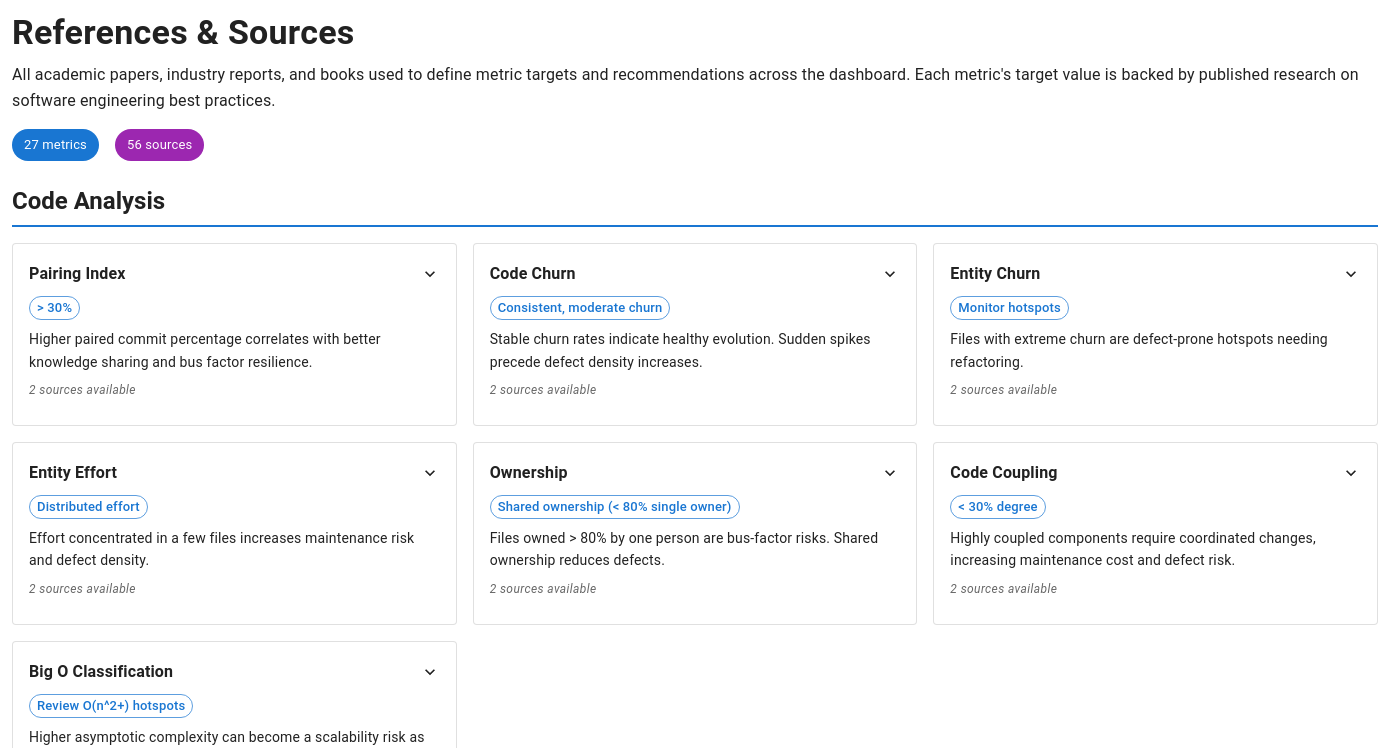
it: ReferencesPage › collapses sources when collapse button is clicked
Expand first
Click the button with aria-label "expand sources" at (77, 274), box [29,260,440,288]
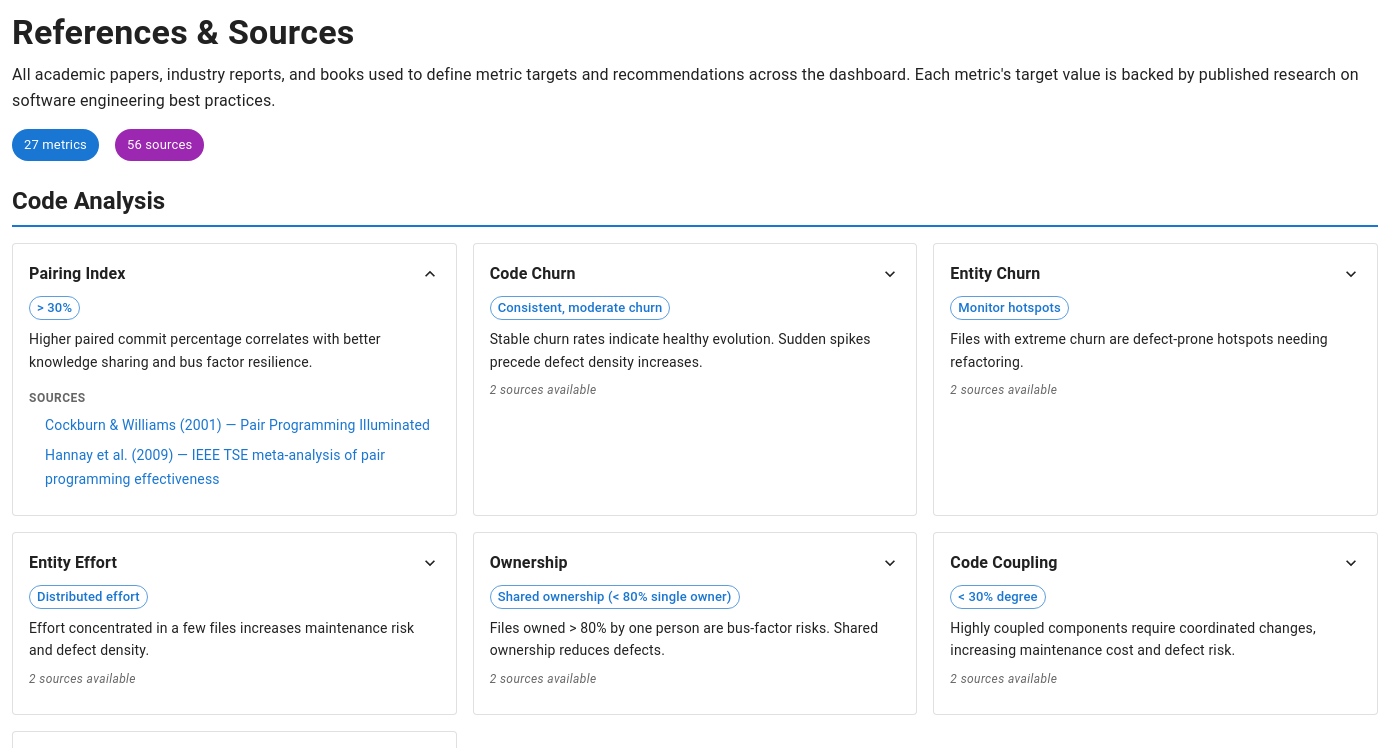
Now collapse
Click the button with aria-label "collapse sources" at (77, 274), box [29,260,440,288]
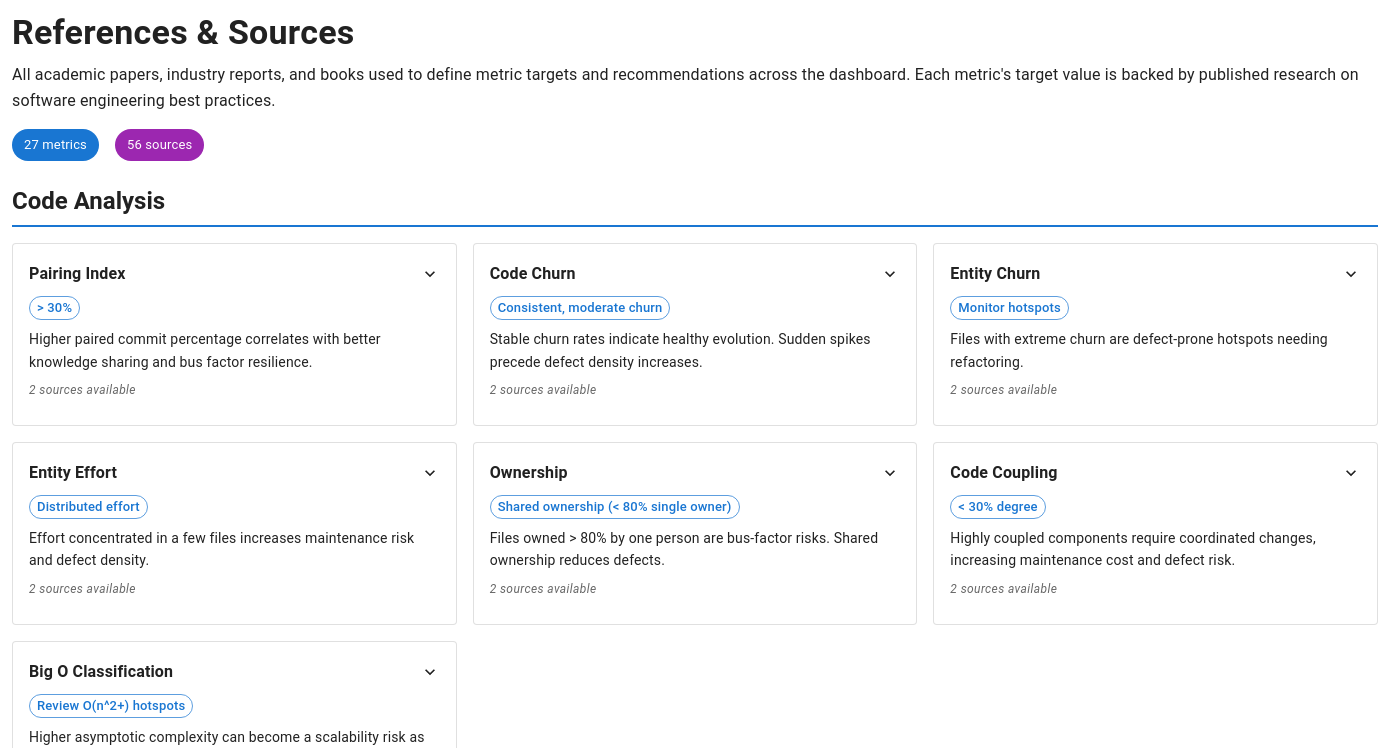
Check: the button with aria-label "expand sources" is shown, box [29,260,440,288]
